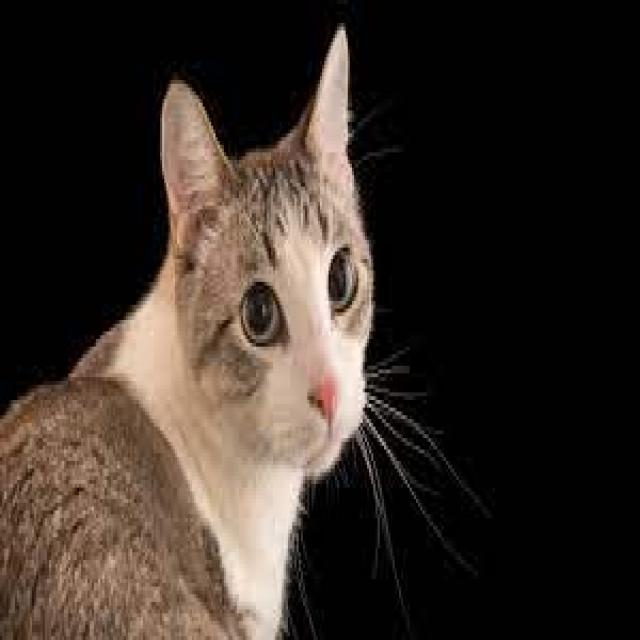cat: (2, 38, 406, 640)
